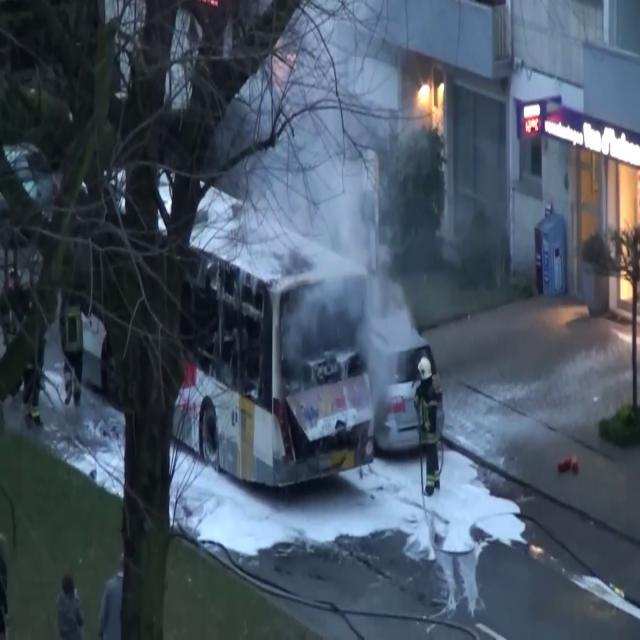Smoke: (256, 9, 422, 471)
